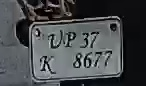3: (80, 30, 89, 50)
6: (84, 52, 95, 71)
7: (88, 30, 101, 49), (102, 47, 112, 68), (93, 51, 103, 70)
8: (70, 51, 81, 70)
K: (37, 55, 60, 76)
P: (66, 31, 75, 50)
U: (47, 29, 67, 49)
